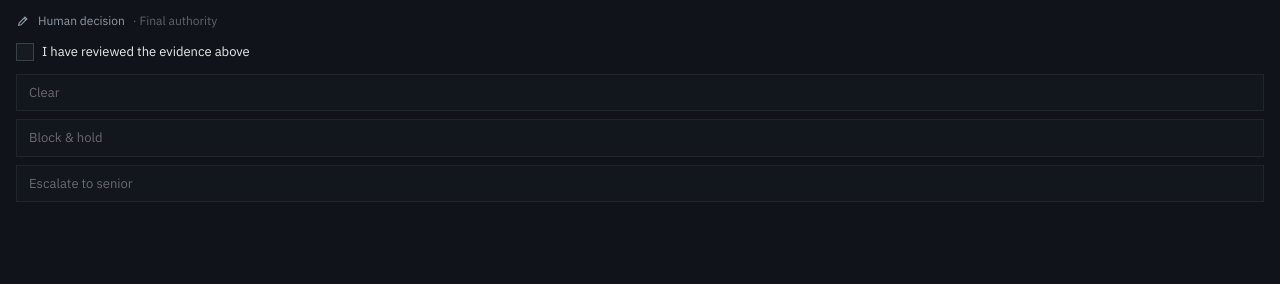
Test: HumanDecisionPanel › requires a reason before Block & Hold can be confirmed
This screenshot has width=1280, height=284.
Click the text "I have reviewed the evidence above" at (133, 52), box [16,43,250,61]
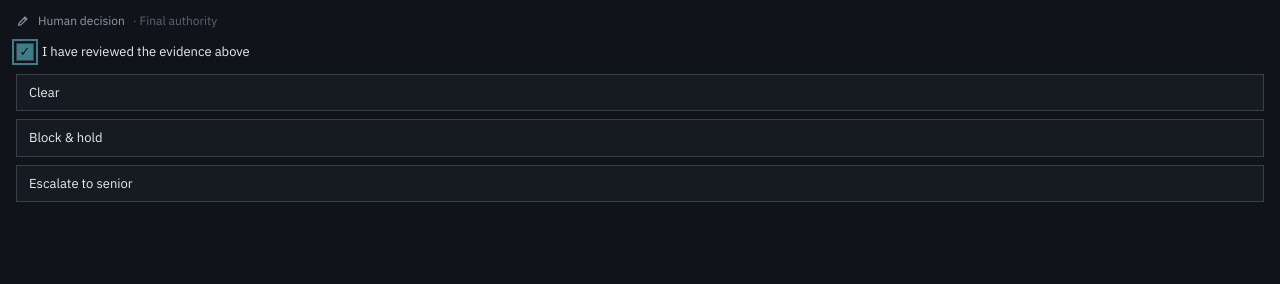
Click the button "Block & hold" at (66, 138), box [16,119,1264,156]
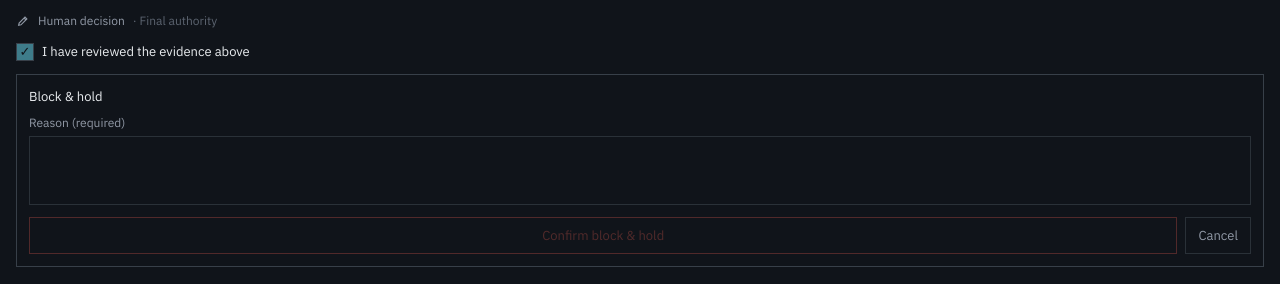
Expected: the button "Confirm block & hold" is disabled, [29,216,1178,254]
Type "Confirmed fraud pattern" into the text box labelled "Reason (required)" at (640, 170), box [29,136,1251,204]
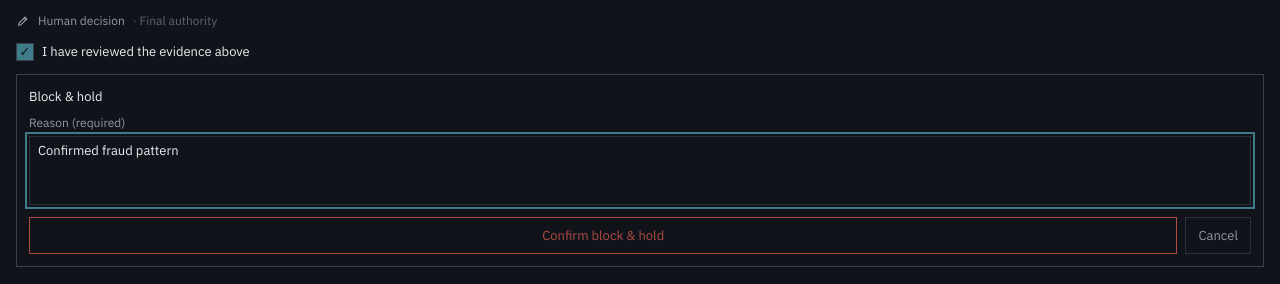
Expected: the button "Confirm block & hold" is enabled, [29,216,1178,254]
